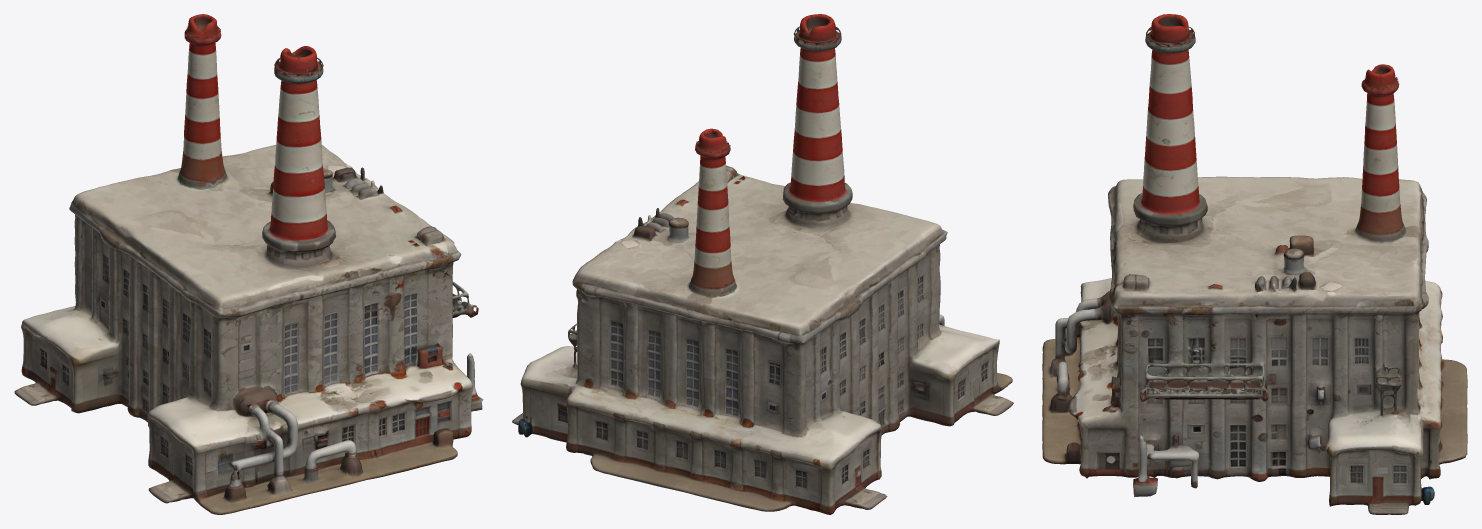
Rendered from tomsk_gres.glb.
3 renders of one model, left to right at view 1: azimuth 30°, elevation 25°; view 2: azimuth 150°, elevation 25°; view 3: azimuth 270°, elevation 25°, orthographic. The views are drawn at different scales.
Visible parts, largest first — view 1: tripo_node_ed0ee999-0203-41e4-a321-18c79b05bd8a; view 2: tripo_node_ed0ee999-0203-41e4-a321-18c79b05bd8a; view 3: tripo_node_ed0ee999-0203-41e4-a321-18c79b05bd8a.
Boxes of the visible parts, left/top/right/bottom form: tripo_node_ed0ee999-0203-41e4-a321-18c79b05bd8a: left=14, top=14, right=483, bottom=514; tripo_node_ed0ee999-0203-41e4-a321-18c79b05bd8a: left=512, top=14, right=1013, bottom=514; tripo_node_ed0ee999-0203-41e4-a321-18c79b05bd8a: left=1042, top=14, right=1467, bottom=514.
Bounding box in the file's own units: 0.8966 × 0.883 × 0.8633.
Materials: 1 (1 with a texture image).
